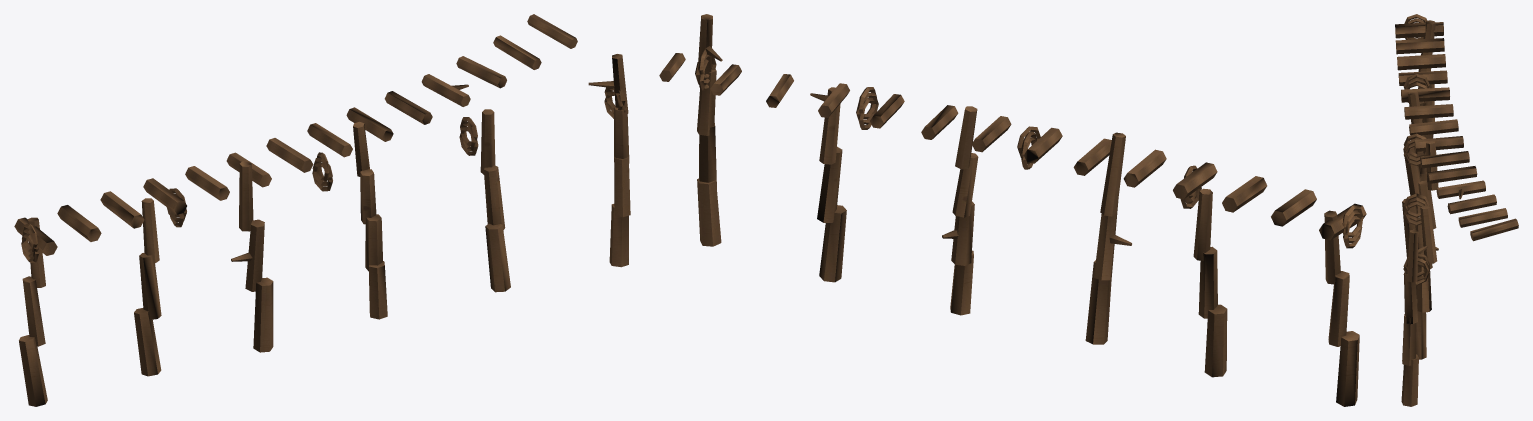
The model's file is post.glb.
3 renders of one model, left to right at view 1: azimuth 30°, elevation 25°; view 2: azimuth 150°, elevation 25°; view 3: azimuth 270°, elevation 25°, orthographic. The views are drawn at different scales.
Parts seen in each view (by area): view 1: post; view 2: post; view 3: post.
Part boxes in pixels (x1,y1,x2,y2): post: (14,14,630,406); post: (659,14,1366,406); post: (1395,14,1518,406).
Bounding box in the file's own units: 4.13 × 1.37 × 0.8744.
Materials: 1 (1 with a texture image).
